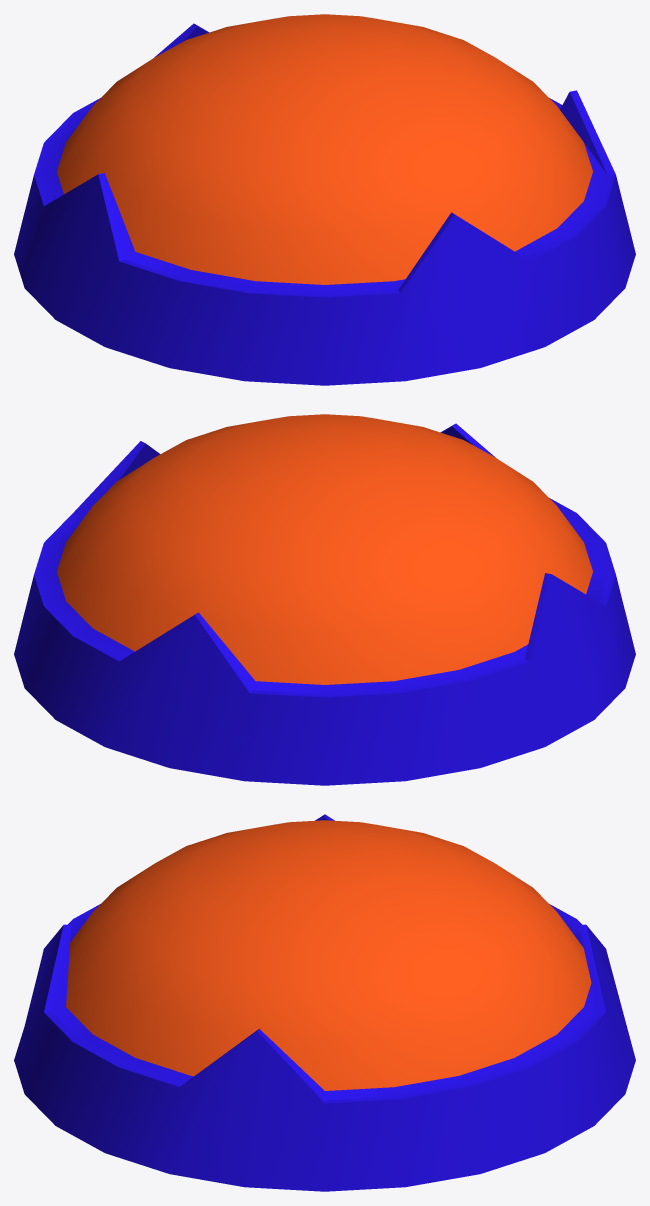
File: light.fbx
The picture shows the model from 3 angles, top to bottom: view 1: azimuth 30°, elevation 25°; view 2: azimuth 150°, elevation 25°; view 3: azimuth 270°, elevation 25°; orthographic projection.
Parts seen in each view (by area): view 1: Sphere; view 2: Sphere; view 3: Sphere.
Boxes of the visible parts, <box> form: Sphere: <box>14,14,635,385</box>; Sphere: <box>14,414,635,785</box>; Sphere: <box>14,814,635,1191</box>.
Size of the model in its own units: 214 by 78.07 by 214.
